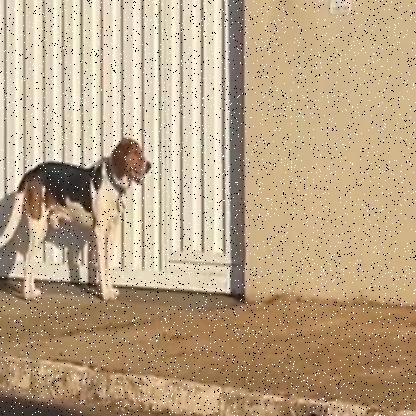dog: (0, 136, 154, 306)
